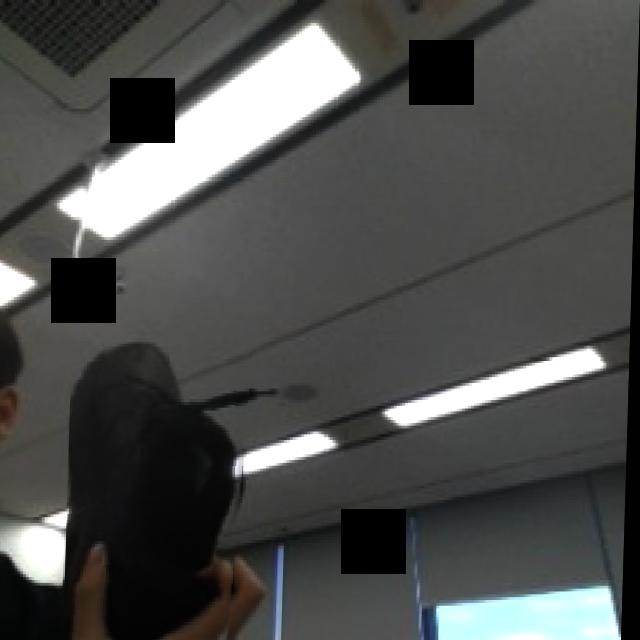shoe: (67, 336, 256, 640)
